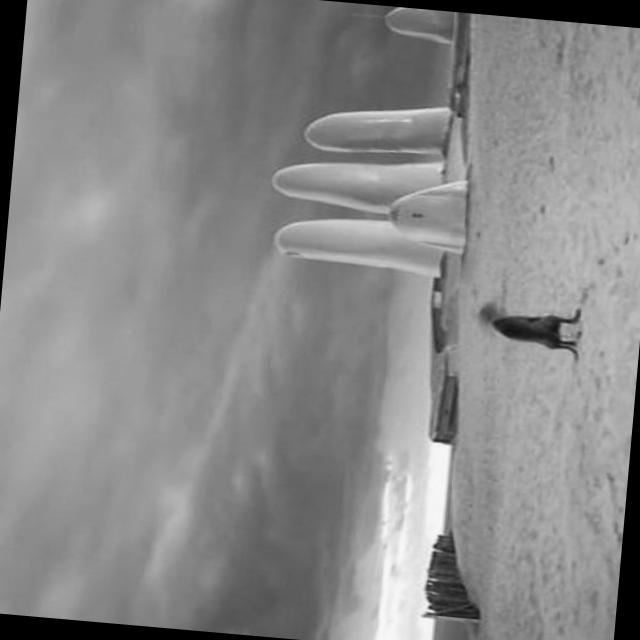squatting: (472, 290, 590, 365)
